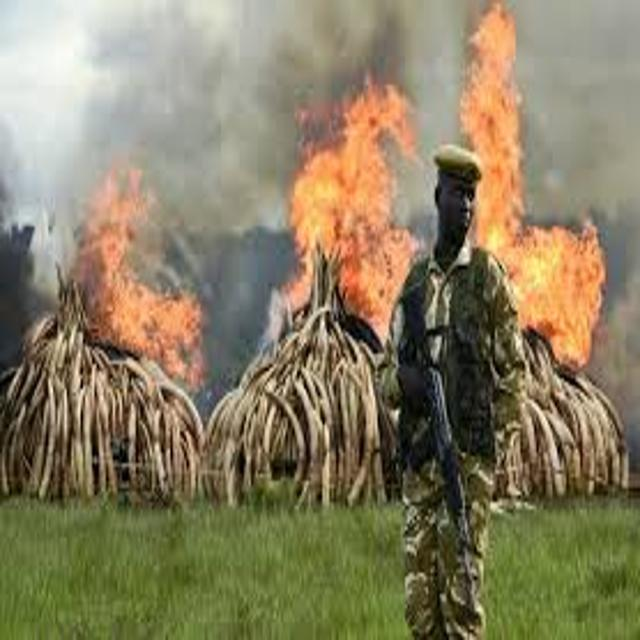gun: (372, 343, 542, 633)
ranger: (324, 115, 595, 640)
